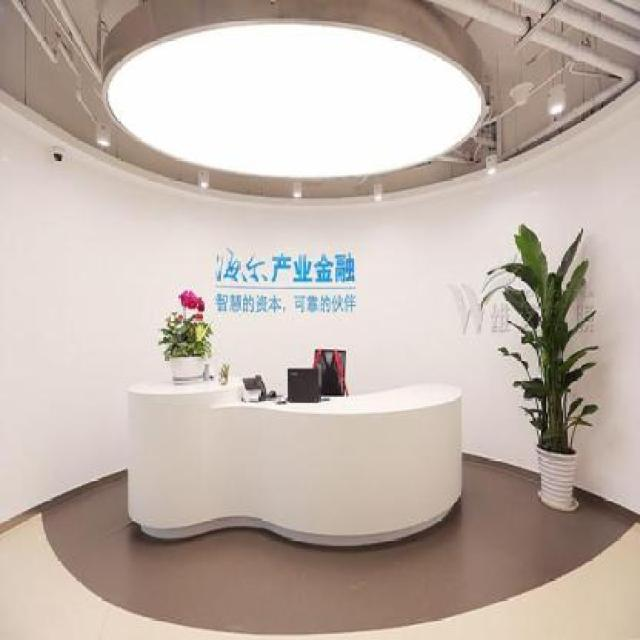frontdesk: (117, 357, 468, 558)
